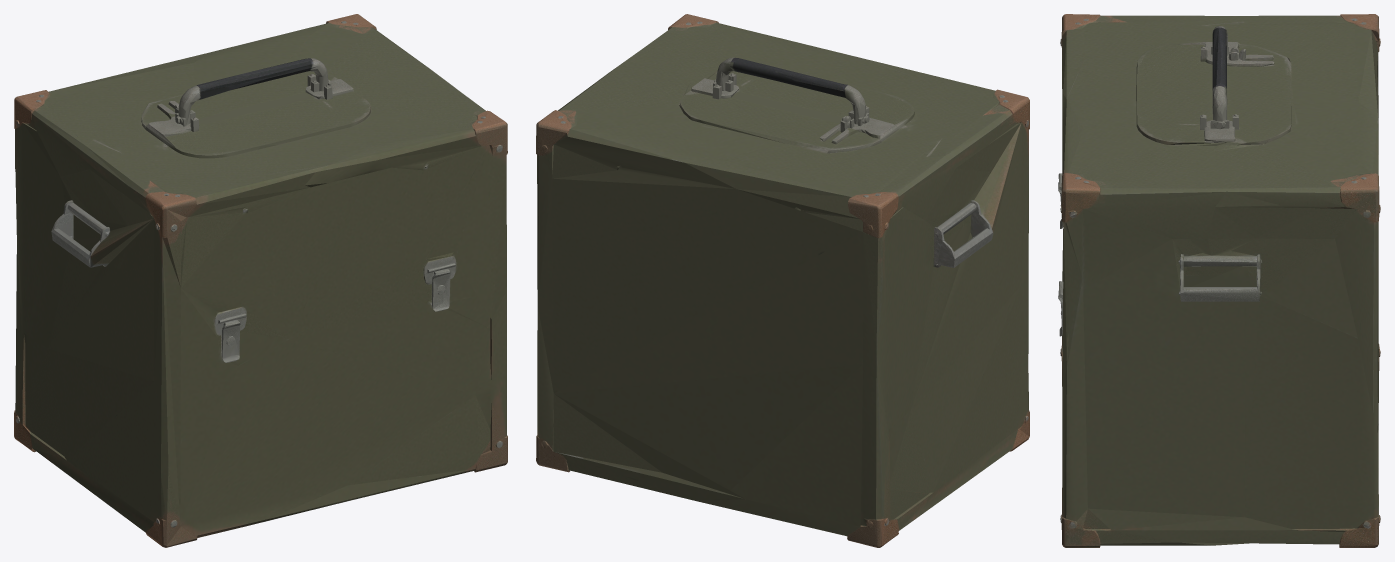
The model's file is ammo_rifle.glb.
The picture shows the model from 3 angles, left to right: view 1: azimuth 30°, elevation 25°; view 2: azimuth 150°, elevation 25°; view 3: azimuth 270°, elevation 25°; orthographic projection. The views are drawn at different scales.
Size of the model in its own units: 1.9 by 1.83 by 1.33.
1 material, 1 textured.
